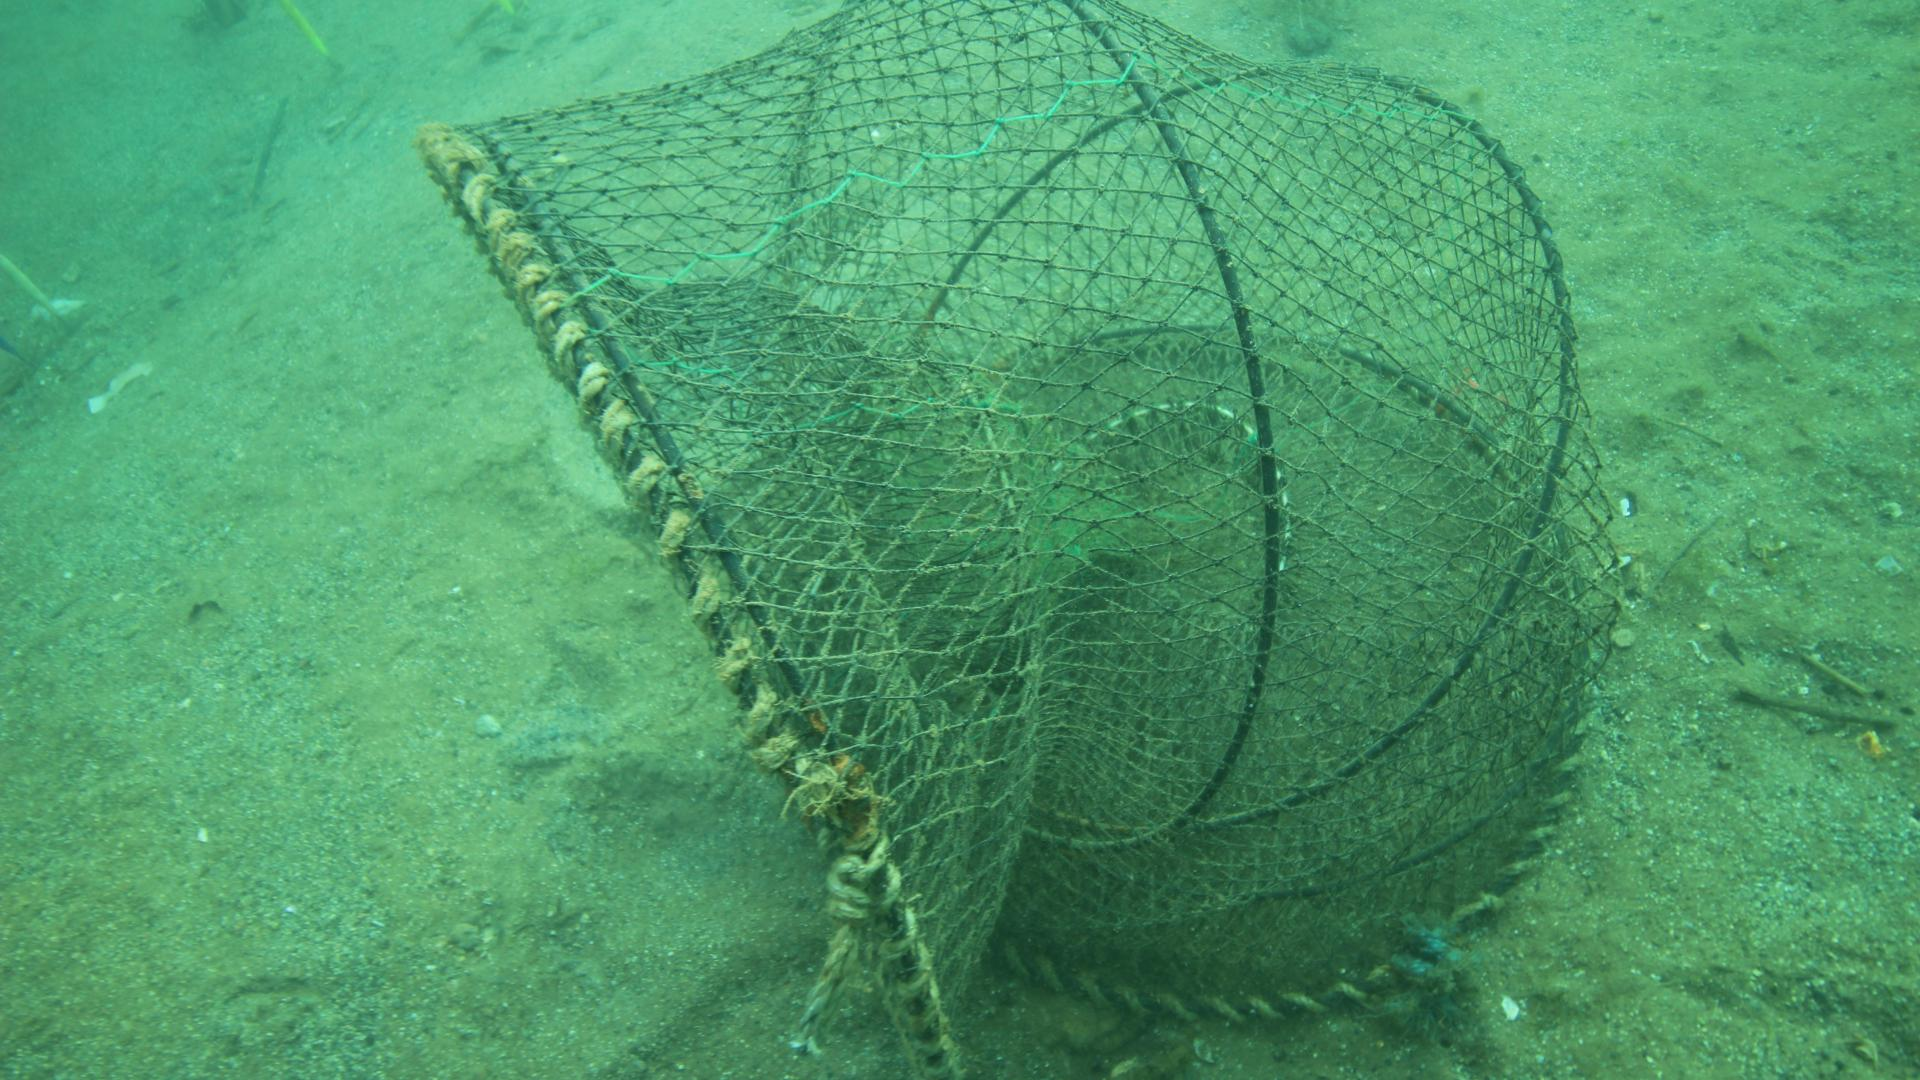rope: (783, 851, 872, 1063)
spring fish trap: (415, 0, 1634, 1080)
